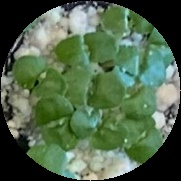Basil: (72, 107, 125, 149), (64, 69, 124, 105), (122, 115, 164, 163), (58, 32, 117, 66), (17, 58, 64, 98), (38, 99, 73, 148), (115, 45, 166, 77), (102, 6, 155, 32), (117, 79, 151, 113)
